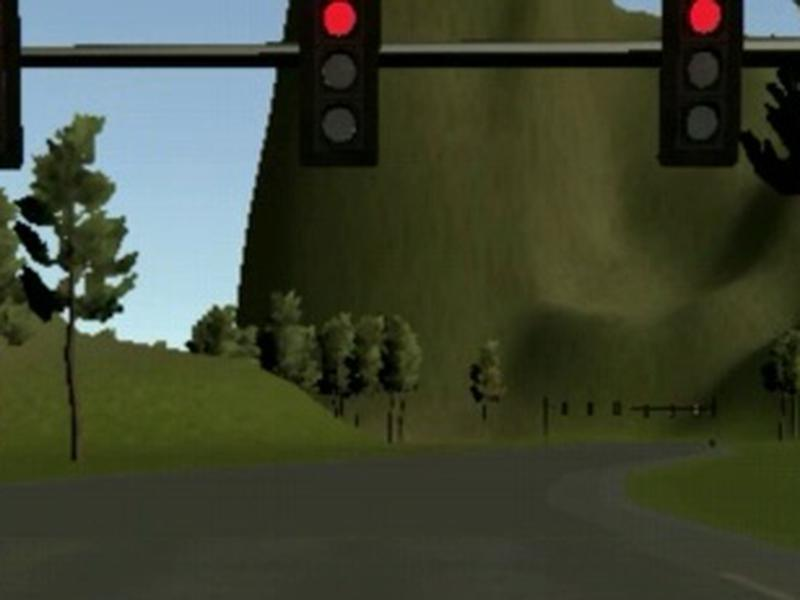Red: (298, 1, 382, 166), (663, 1, 739, 166)
